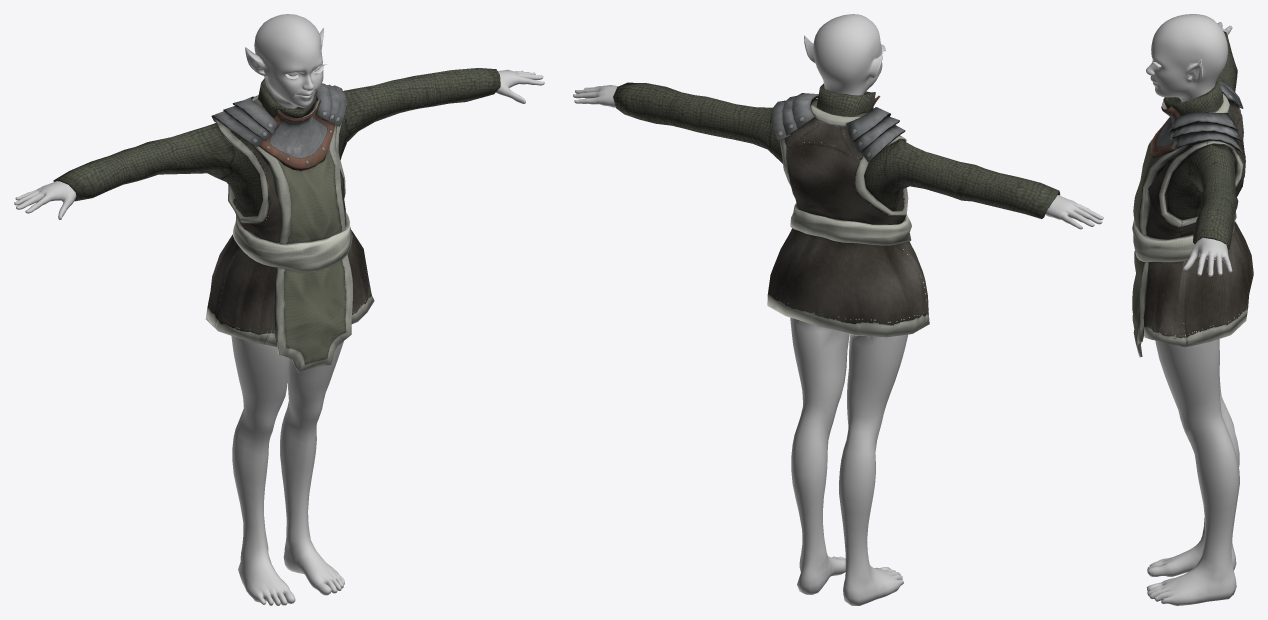
The model's file is fuse.obj.
3 renders of one model, left to right at view 1: azimuth 30°, elevation 25°; view 2: azimuth 150°, elevation 25°; view 3: azimuth 270°, elevation 25°, orthographic.
Visible parts, largest first — view 1: Tops, Body; view 2: Tops, Body; view 3: Tops, Body.
Part boxes in pixels (bbox=[...]): Tops: bbox=[53, 68, 500, 372]; Body: bbox=[14, 14, 544, 605]; Tops: bbox=[613, 82, 1060, 337]; Body: bbox=[573, 14, 1103, 605]; Tops: bbox=[1132, 31, 1253, 357]; Body: bbox=[1146, 14, 1239, 605].
Bounding box in the file's own units: 170 × 175 × 33.91.
